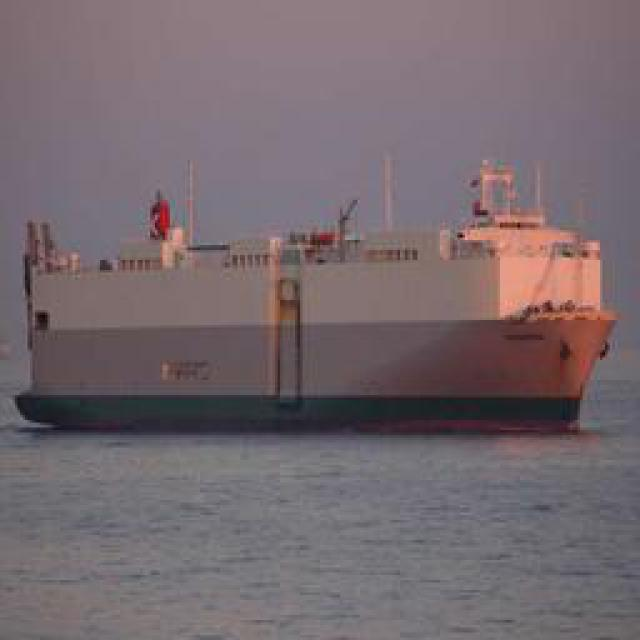Ship: (22, 140, 630, 439)
